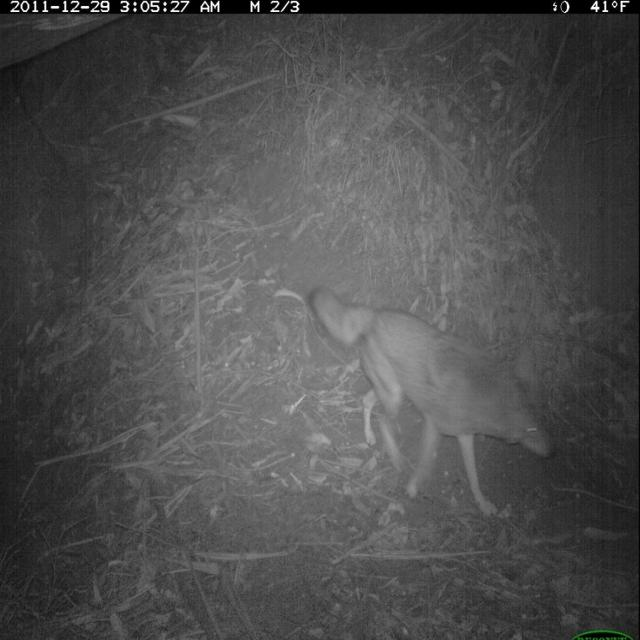coyote: (304, 272, 560, 528)
